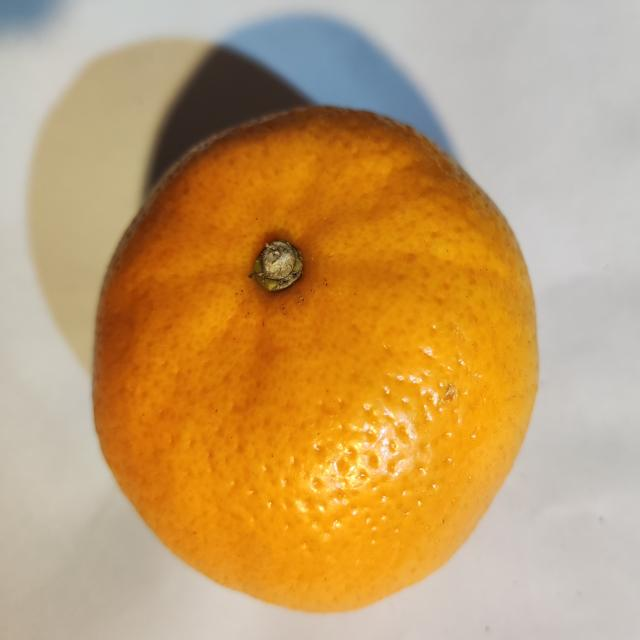orange: (94, 108, 537, 611)
